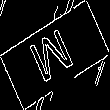M_SE: (29, 22, 81, 88)
